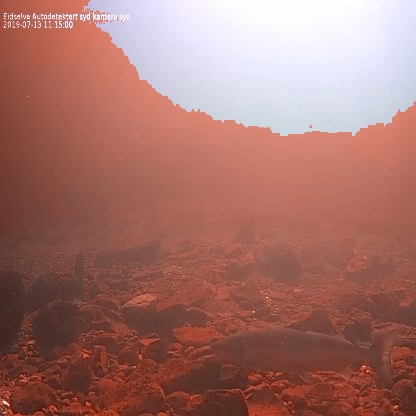salmon: (205, 316, 400, 388)
